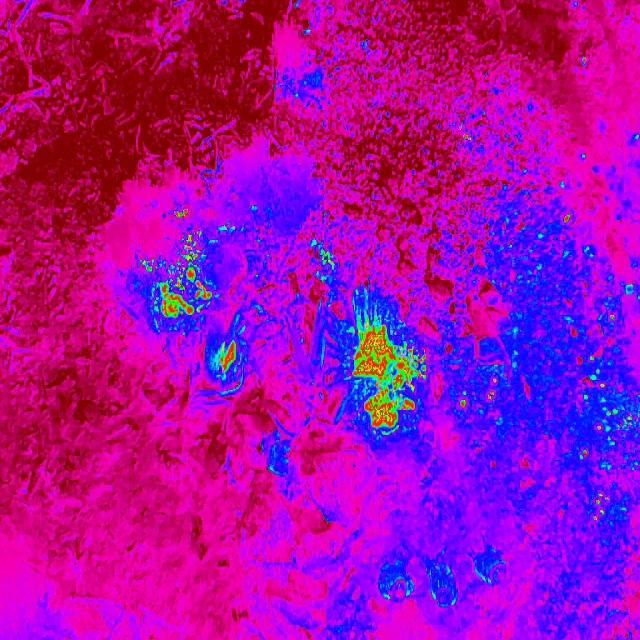fire: (557, 288, 640, 530), (348, 320, 426, 432), (142, 237, 216, 321), (456, 375, 504, 413), (215, 338, 238, 379), (318, 245, 336, 269), (558, 206, 574, 227), (172, 206, 187, 222)
